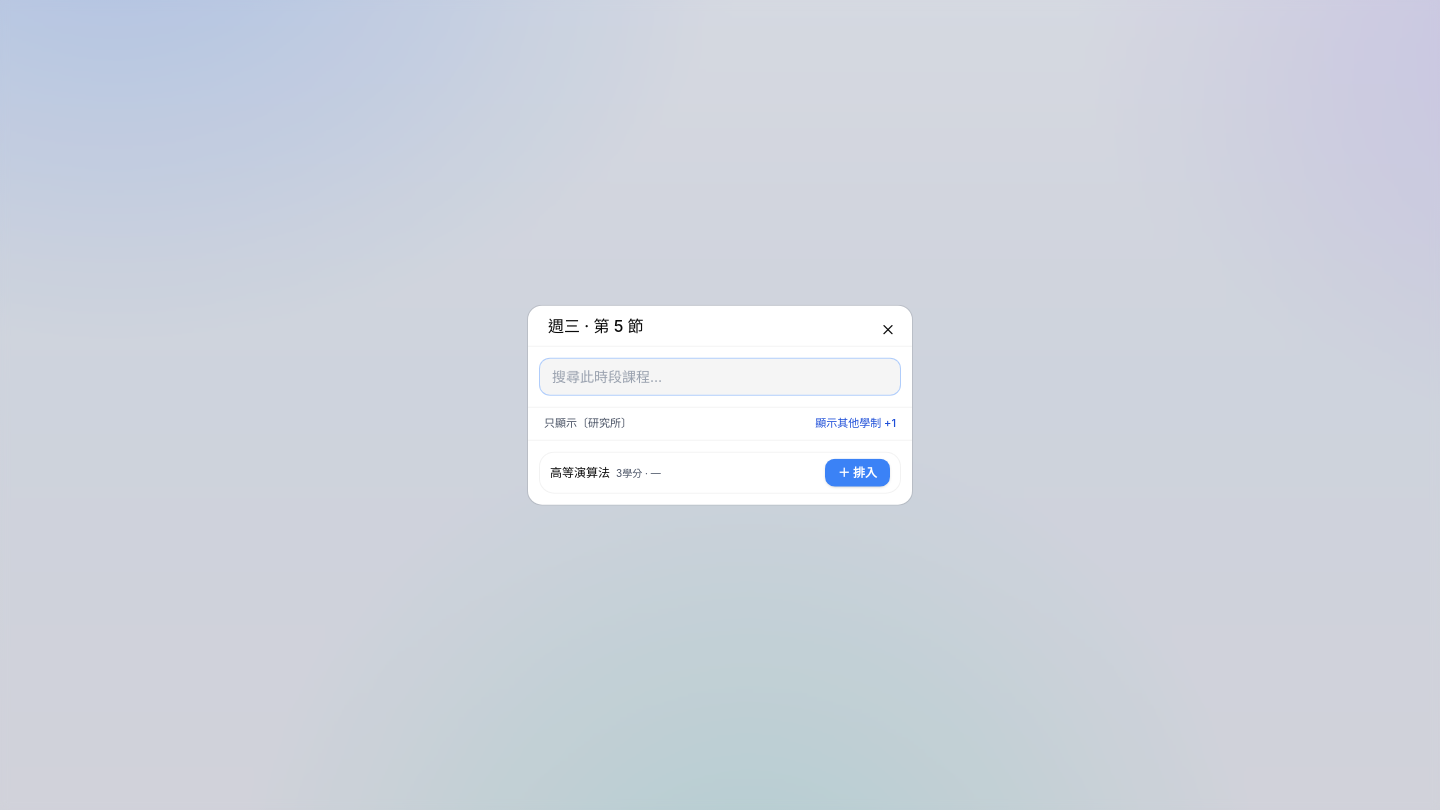
Test case: SlotPopover — 學制過濾 (add mode) › 選了研究所 → 預設只顯研究所課；切換『顯示其他學制』後出現大學部課
Expected: the text "高等演算法" is shown, 550,464 -> 610,479
Expected: the text "計算機概論" is not shown
Click the text "顯示其他學制 +1".
click(856, 423)  # box 815,416 -> 896,431
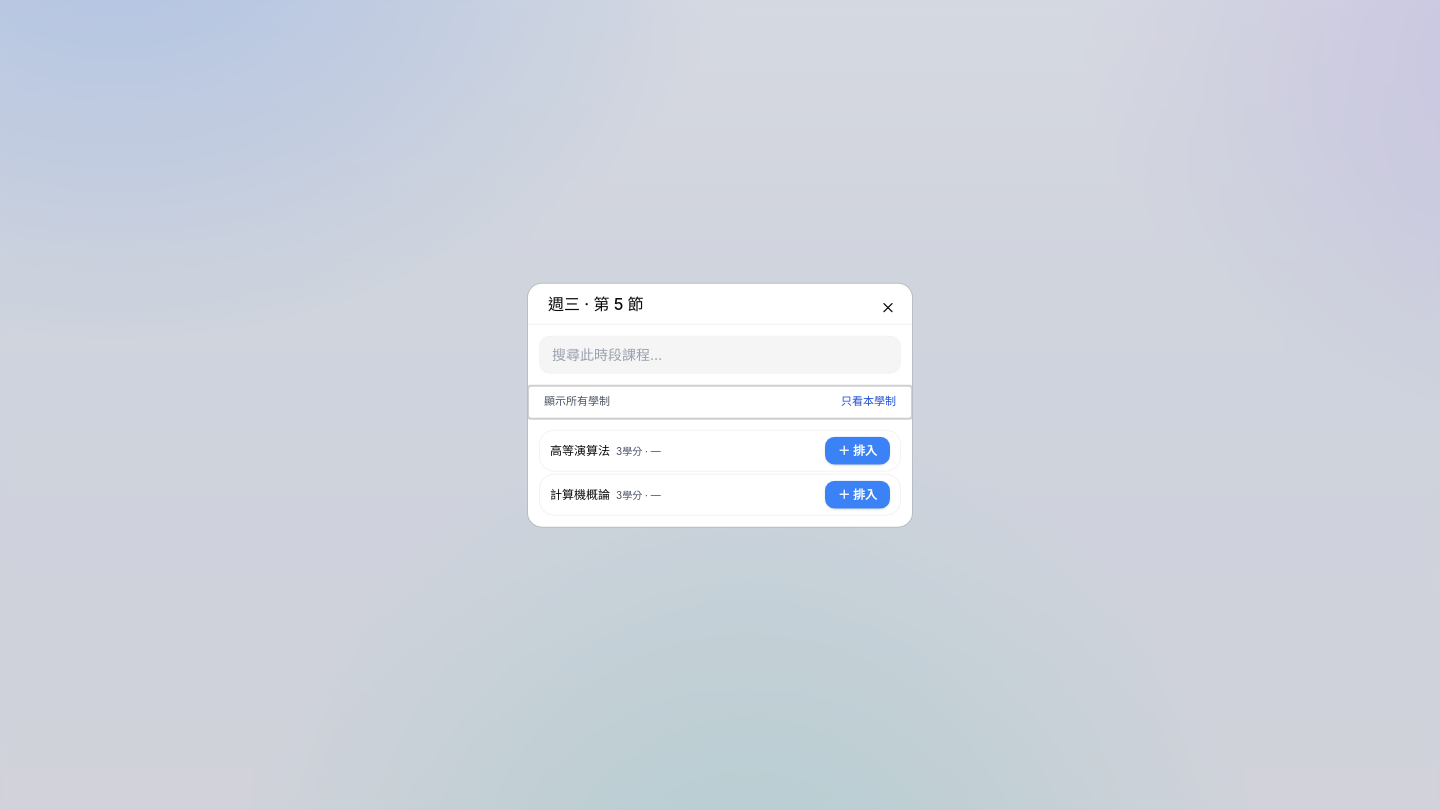
Now the text "計算機概論" is shown, box 550,486 -> 610,501
